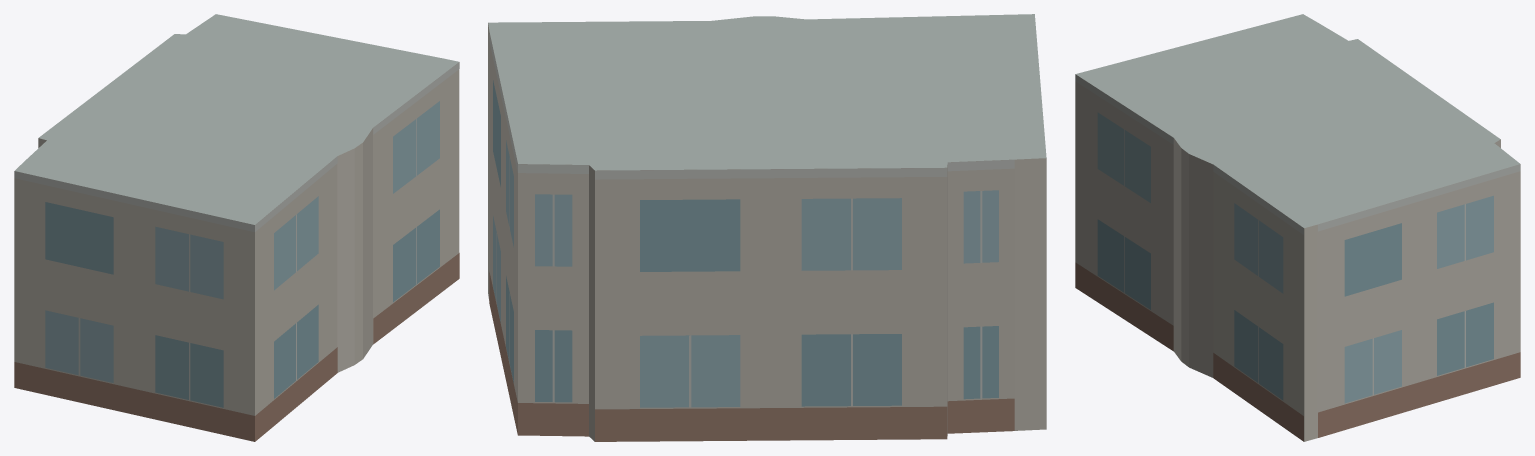
Rendered from survey-upis-32623860.glb.
3 renders of one model, left to right at view 1: azimuth 30°, elevation 25°; view 2: azimuth 150°, elevation 25°; view 3: azimuth 270°, elevation 25°, orthographic. The views are drawn at different scales.
Parts seen in each view (by area): view 1: survey-upis-32623860.tmp; view 2: survey-upis-32623860.tmp; view 3: survey-upis-32623860.tmp.
Boxes of the visible parts, left/top/right/bottom form: survey-upis-32623860.tmp: left=14, top=14, right=459, bottom=441; survey-upis-32623860.tmp: left=488, top=14, right=1046, bottom=441; survey-upis-32623860.tmp: left=1075, top=14, right=1520, bottom=441.
Bounding box in the file's own units: 15.71 × 7.3 × 13.8.
